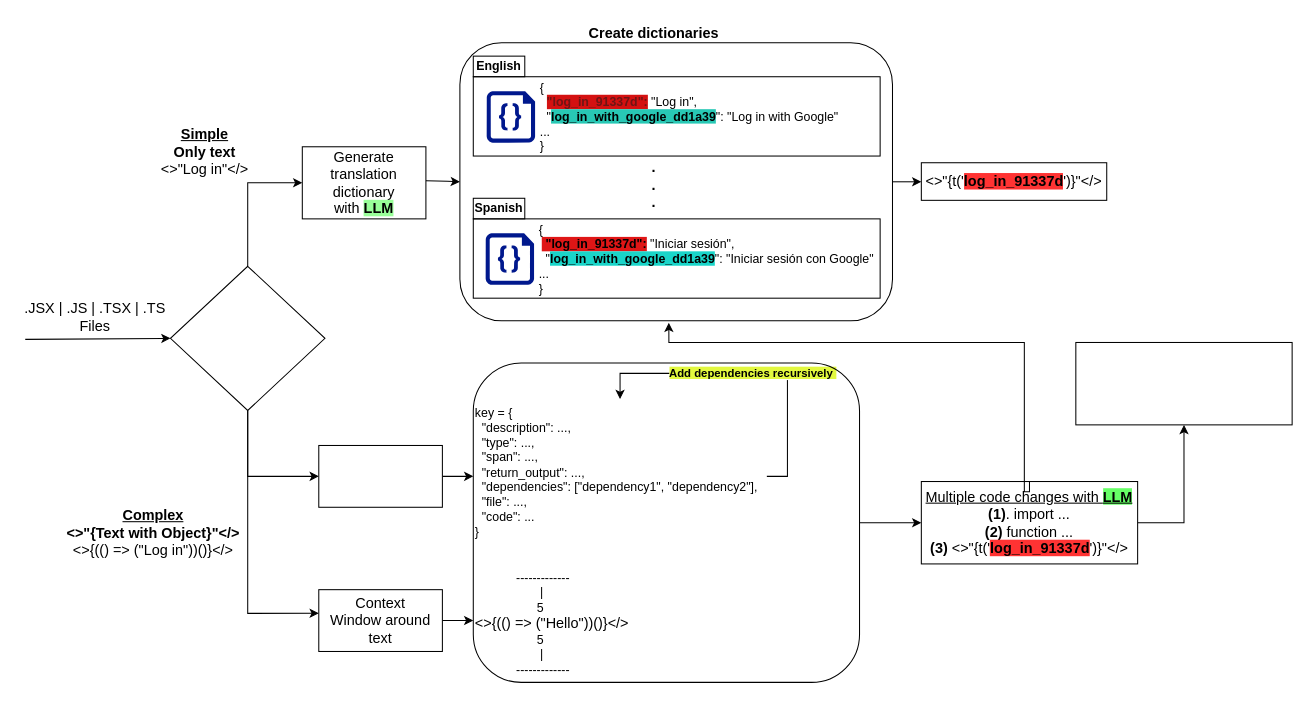
Some shapes in this 1310 by 710 pixel diagram are drawn without their labels. The centre of each missing label's shape, as x and y in pixels:
"Check every file is valid after the multiple changes with LLM" goes at (1183,383).
"Project Abstract Dependencies" goes at (380,475).
"Regex Simple- Text / Complex-Text with objects" goes at (247,337).
